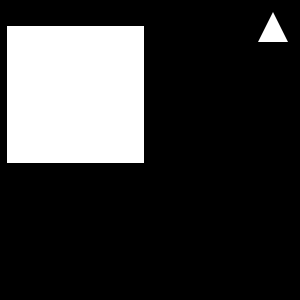circle: (7, 26, 144, 163), (76, 52, 121, 97)
triangle: (258, 12, 288, 42)
